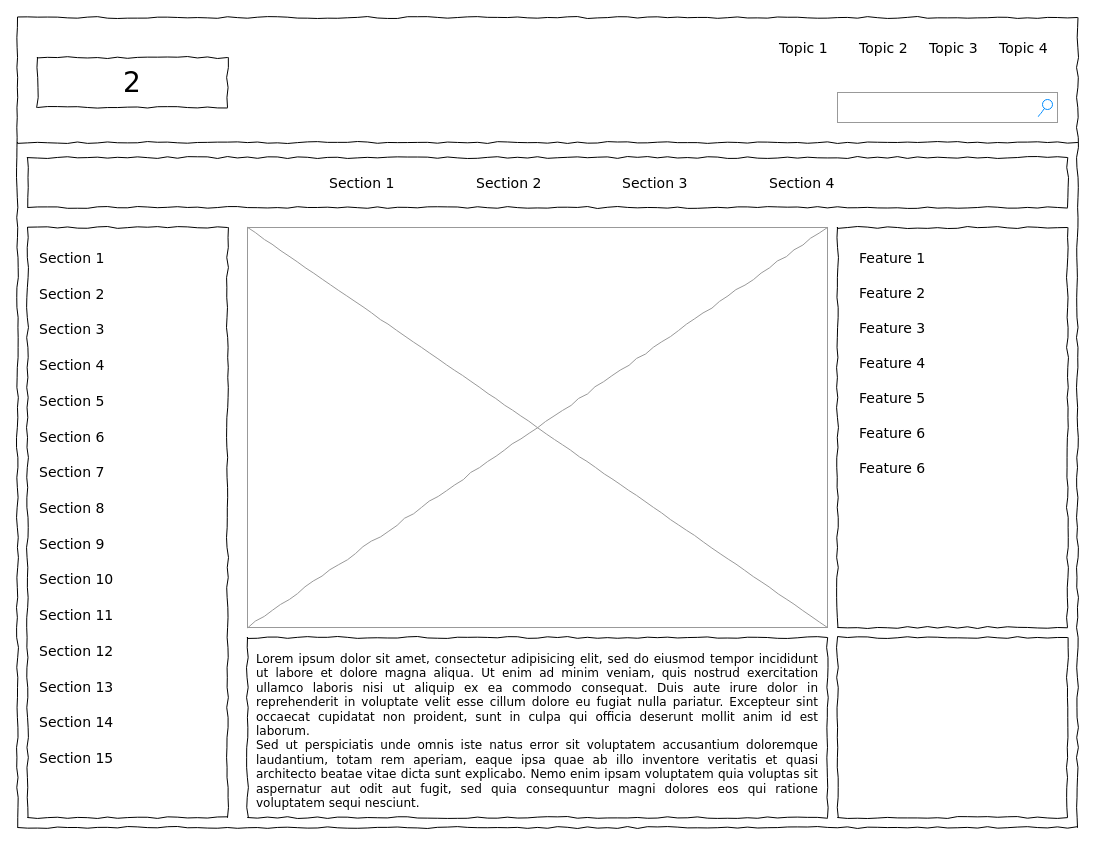
This 1095x845 diagram has some shape labels left out. Each missing label, with the centre of its shape:
External Links: point 952,727
Search: point 947,107
